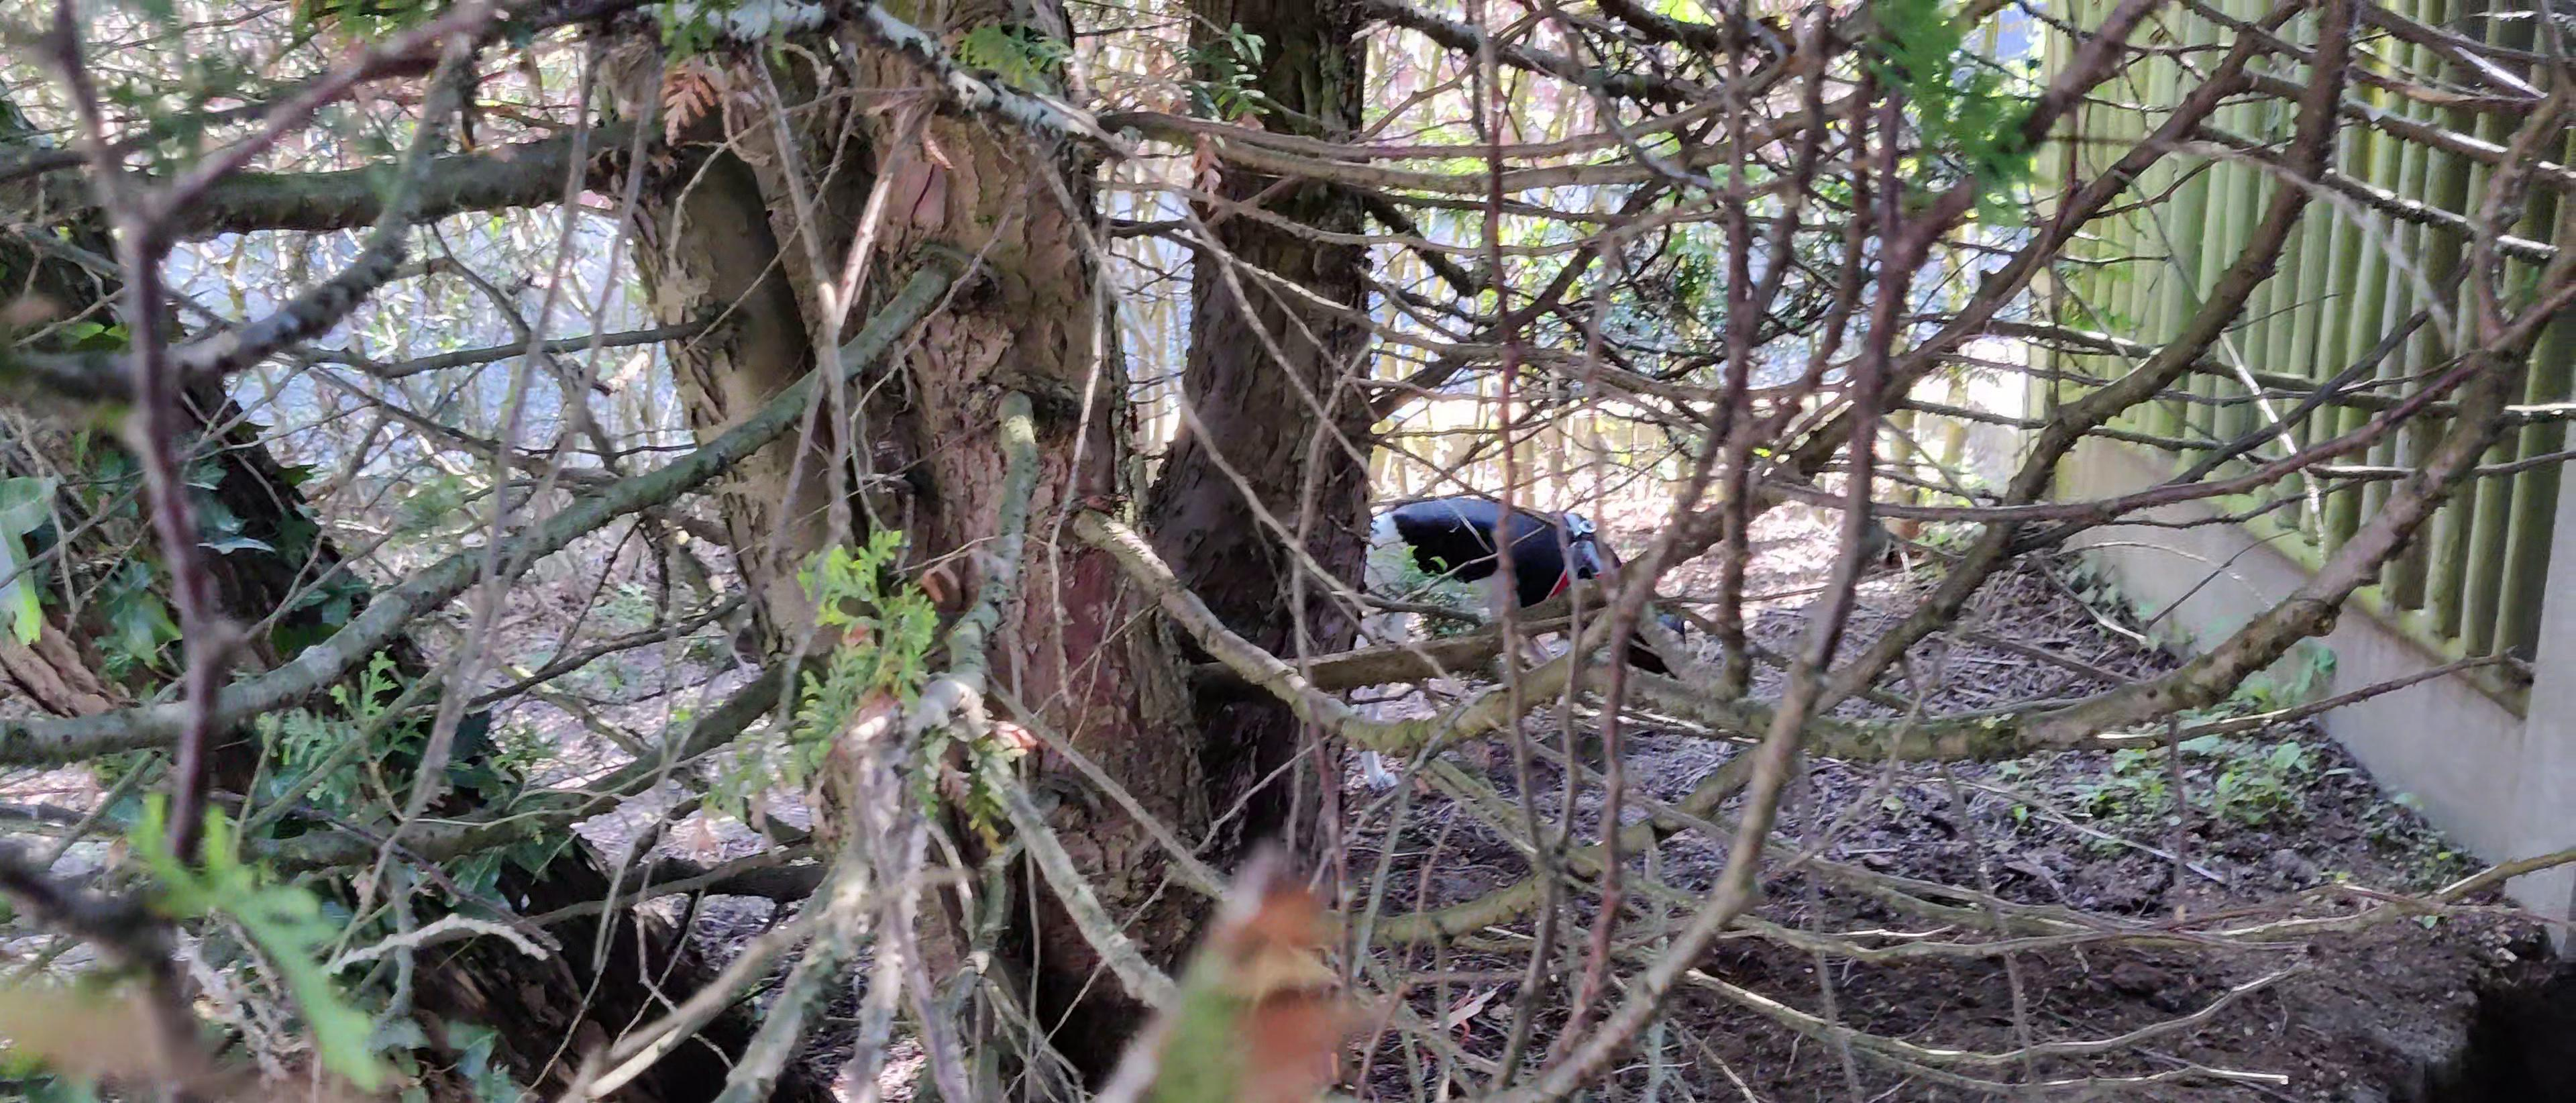Dog: (1332, 478, 1694, 796)
